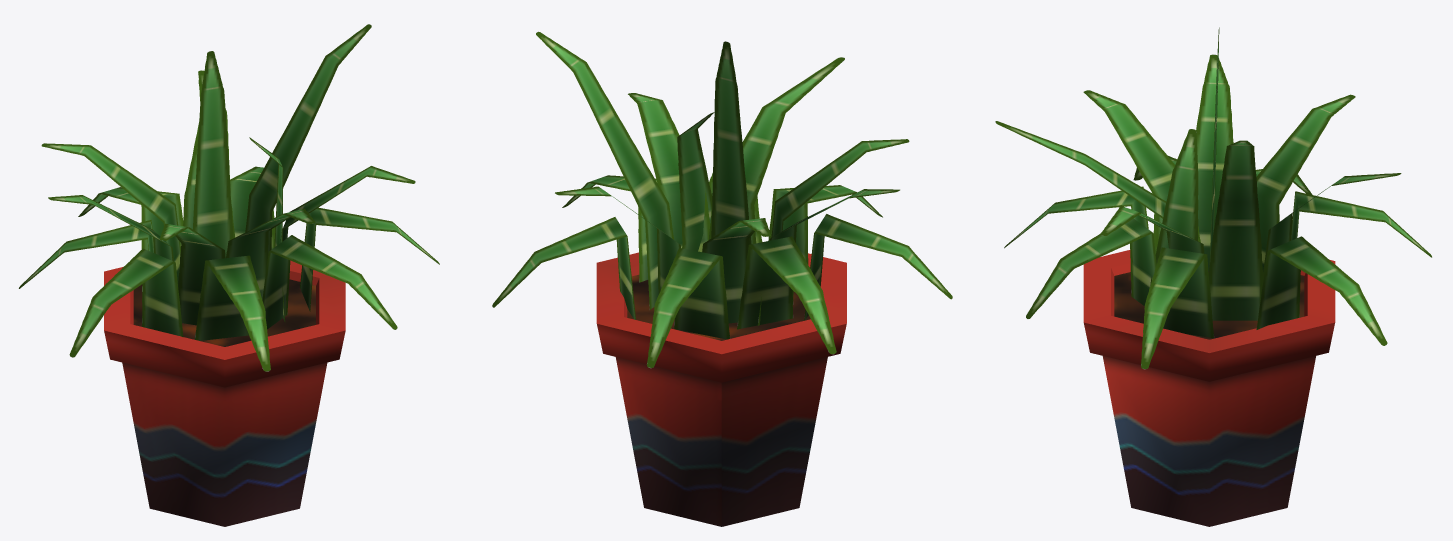
File: Potted Plant_A.FBX
3 renders of one model, left to right at view 1: azimuth 30°, elevation 25°; view 2: azimuth 150°, elevation 25°; view 3: azimuth 270°, elevation 25°, orthographic. The views are drawn at different scales.
Parts seen in each view (by area): view 1: Potted Plant; view 2: Potted Plant; view 3: Potted Plant.
Boxes of the visible parts, x1=… form: Potted Plant: x1=18, y1=24, x2=439, y2=526; Potted Plant: x1=492, y1=31, x2=952, y2=526; Potted Plant: x1=995, y1=27, x2=1432, y2=526.
Size of the model in its own units: 141 by 152 by 134.
Materials: 2 (2 with a texture image).
